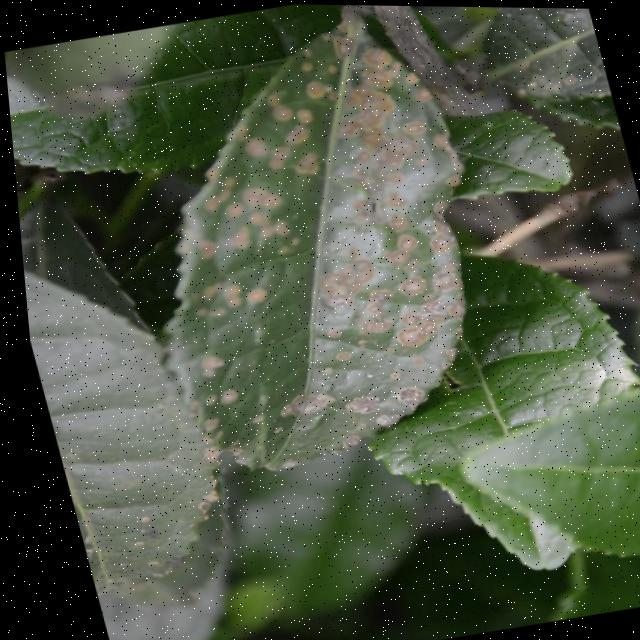Tea algae leaf spot: (103, 47, 512, 468)
